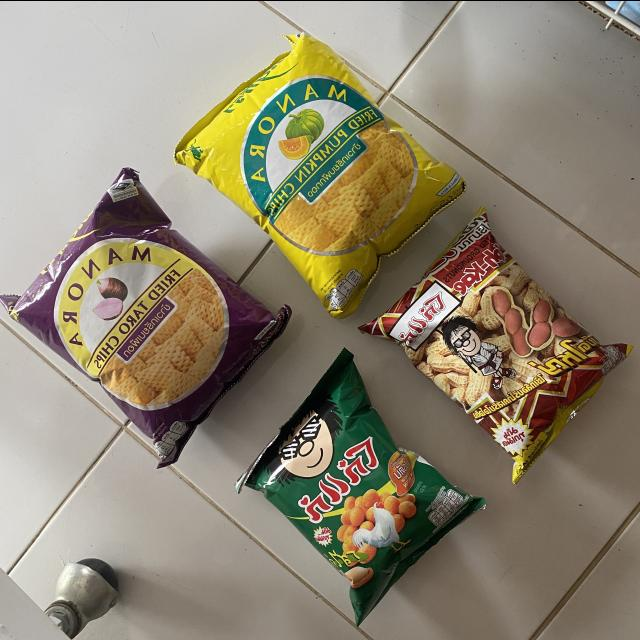plastik: (0, 167, 291, 466), (174, 33, 466, 317), (359, 207, 632, 482), (236, 348, 486, 624)
